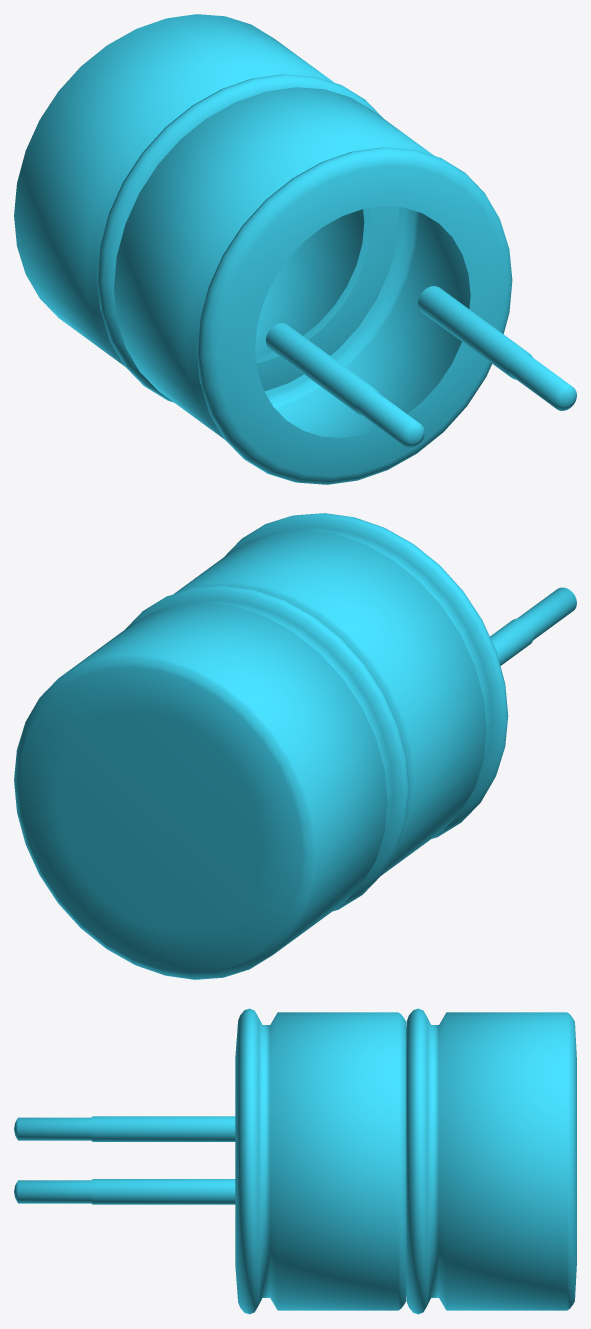
The model's file is Capacitor-Upgrade1.fbx.
3 views of the same model, one above another, from view 1: azimuth 30°, elevation 25°; view 2: azimuth 150°, elevation 25°; view 3: azimuth 270°, elevation 25° (orthographic). The views are drawn at different scales.
Visible parts, largest first — view 1: Capacitor2; view 2: Capacitor2; view 3: Capacitor2.
Boxes of the visible parts, bbox=[...] form: Capacitor2: bbox=[14, 14, 576, 484]; Capacitor2: bbox=[14, 513, 576, 979]; Capacitor2: bbox=[14, 1008, 576, 1314].
Bounding box in the file's own units: 116 × 116 × 213.
